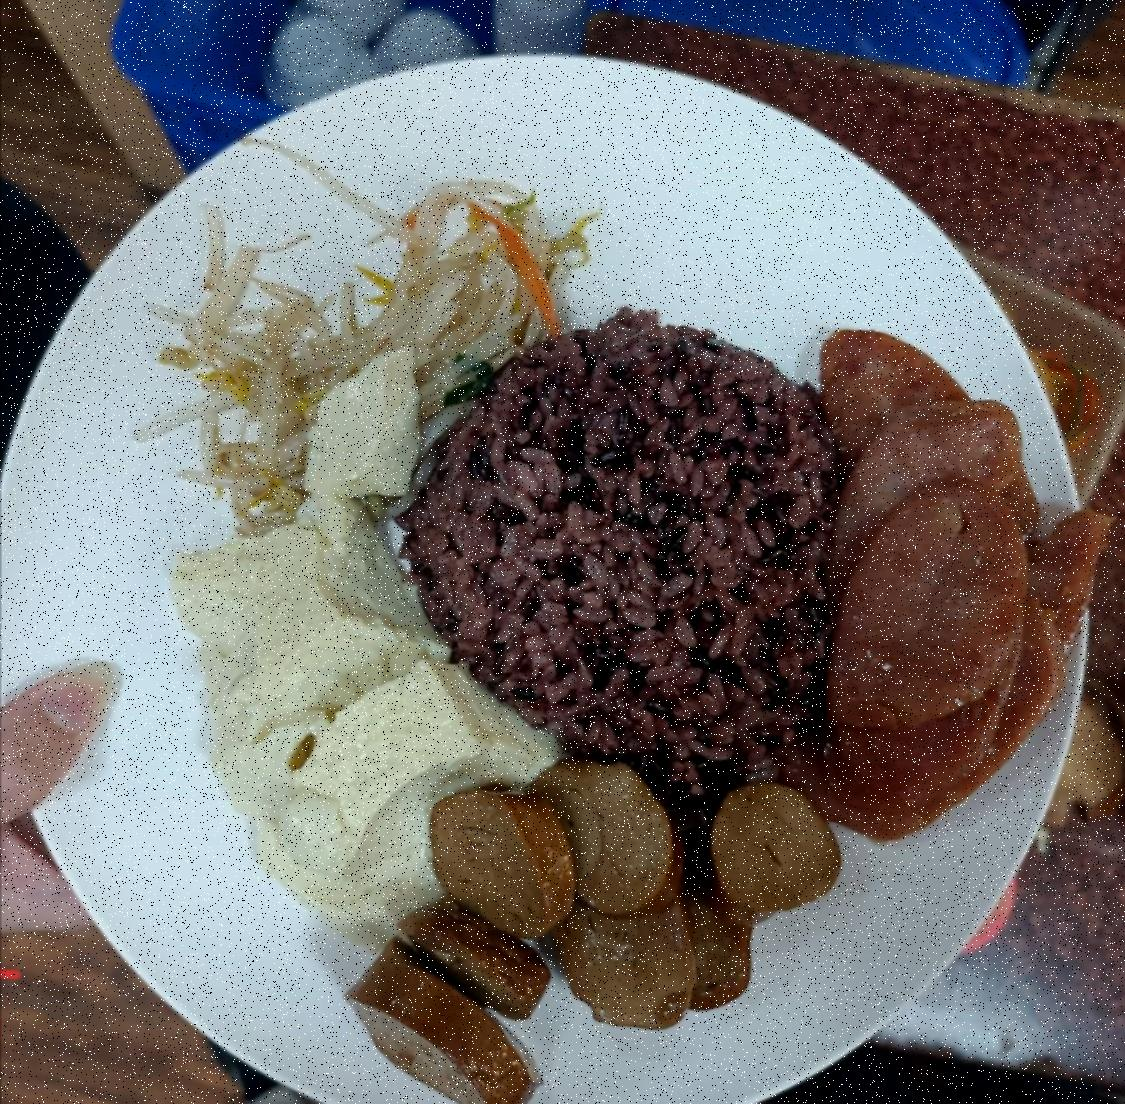plate: (7, 58, 1106, 1104)
purple rice: (448, 326, 840, 760)
sausage: (808, 330, 1080, 822)
side dish: (186, 498, 490, 908), (386, 784, 834, 1050), (177, 174, 546, 488)
